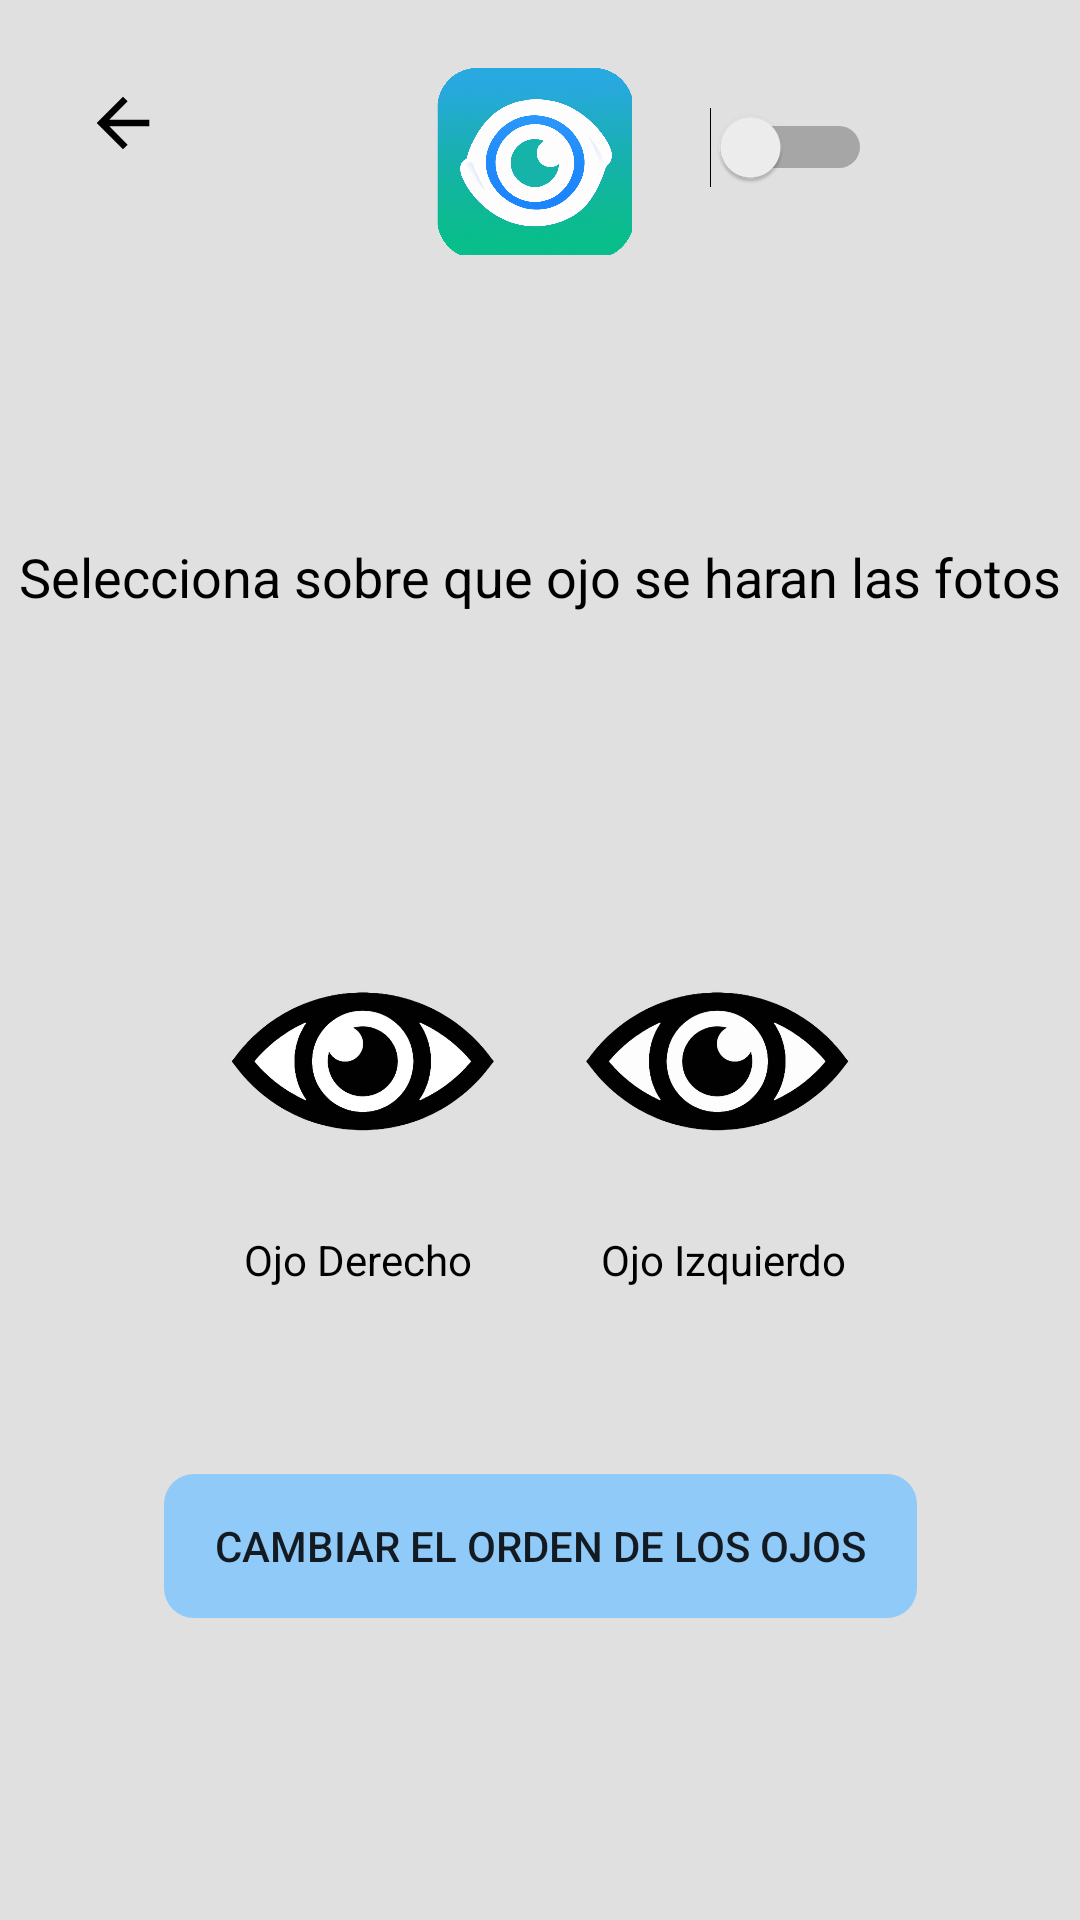

Point at icon controls on the screen. Image size 1080 x 1920, points as (x,y).
back: (123,123)
